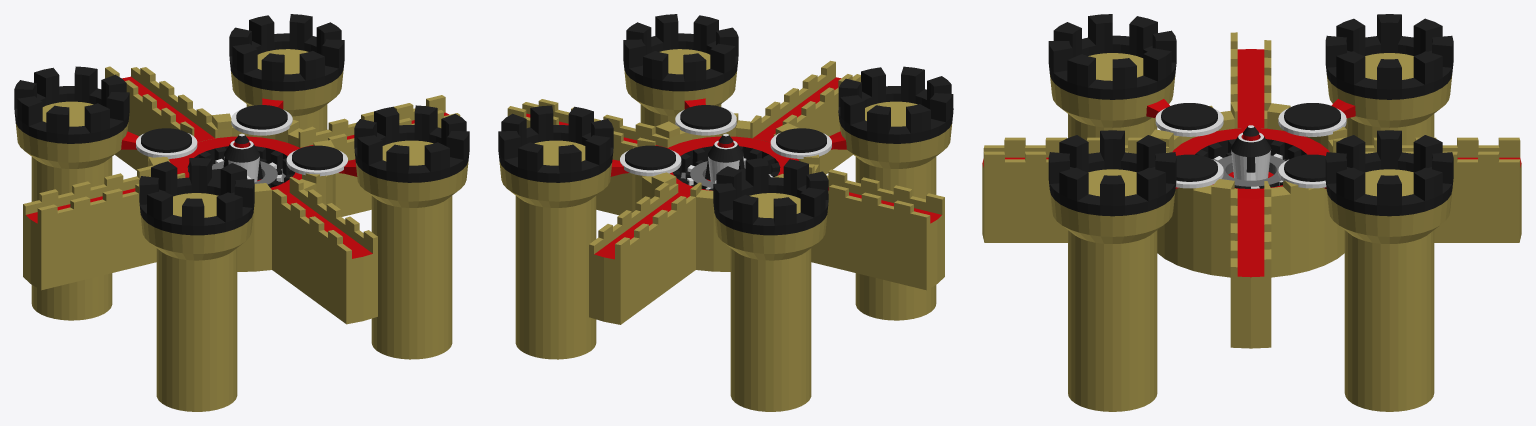
Rendered from minijuego.fbx.
The picture shows the model from 3 angles, left to right: view 1: azimuth 30°, elevation 25°; view 2: azimuth 150°, elevation 25°; view 3: azimuth 270°, elevation 25°; orthographic projection. The views are drawn at different scales.
Visible parts, largest first — view 1: Cylinder, Circle.007, Circle.005, Circle.004, Circle.006, Circle.002, Circle.001, Circle, Circle.010, Circle.008, Circle.009; view 2: Cylinder, Circle.004, Circle.006, Circle.007, Circle.005, Circle.001, Circle.002, Circle.003, Circle.009, Circle.010, Circle.011; view 3: Cylinder, Circle.006, Circle.005, Circle.004, Circle.007, Circle, Circle.003, Circle.001, Circle.002, Circle.011, Circle.008.
Part boxes in pixels (box(x1,y1,x2,y2)): Cylinder: box(23, 66, 460, 324); Circle.007: box(139, 158, 254, 411); Circle.005: box(338, 105, 469, 359); Circle.004: box(14, 66, 138, 320); Circle.006: box(229, 14, 344, 132); Circle.002: box(236, 105, 287, 129); Circle.001: box(292, 145, 342, 170); Circle: box(141, 128, 191, 152); Circle.010: box(231, 110, 292, 135); Circle.008: box(136, 133, 197, 158); Circle.009: box(286, 150, 347, 176); Cylinder: box(507, 60, 944, 324); Circle.004: box(713, 158, 828, 411); Circle.006: box(498, 105, 629, 359); Circle.007: box(829, 66, 953, 320); Circle.005: box(623, 14, 738, 126); Circle.001: box(680, 105, 731, 129); Circle.002: box(625, 145, 675, 170); Circle.003: box(776, 128, 826, 152); Circle.009: box(675, 110, 736, 135); Circle.010: box(620, 150, 681, 176); Circle.011: box(770, 133, 831, 158); Cylinder: box(982, 32, 1521, 348); Circle.006: box(1323, 130, 1453, 411); Circle.005: box(1048, 130, 1178, 411); Circle.004: box(1325, 14, 1453, 145); Circle.007: box(1048, 14, 1176, 145); Circle: box(1284, 103, 1340, 130); Circle.003: box(1161, 103, 1217, 130); Circle.001: box(1176, 154, 1217, 181); Circle.002: box(1284, 154, 1325, 181); Circle.011: box(1155, 108, 1223, 136); Circle.008: box(1278, 108, 1346, 136).
Bounding box in the file's own units: 40.34 × 19.42 × 40.26.
